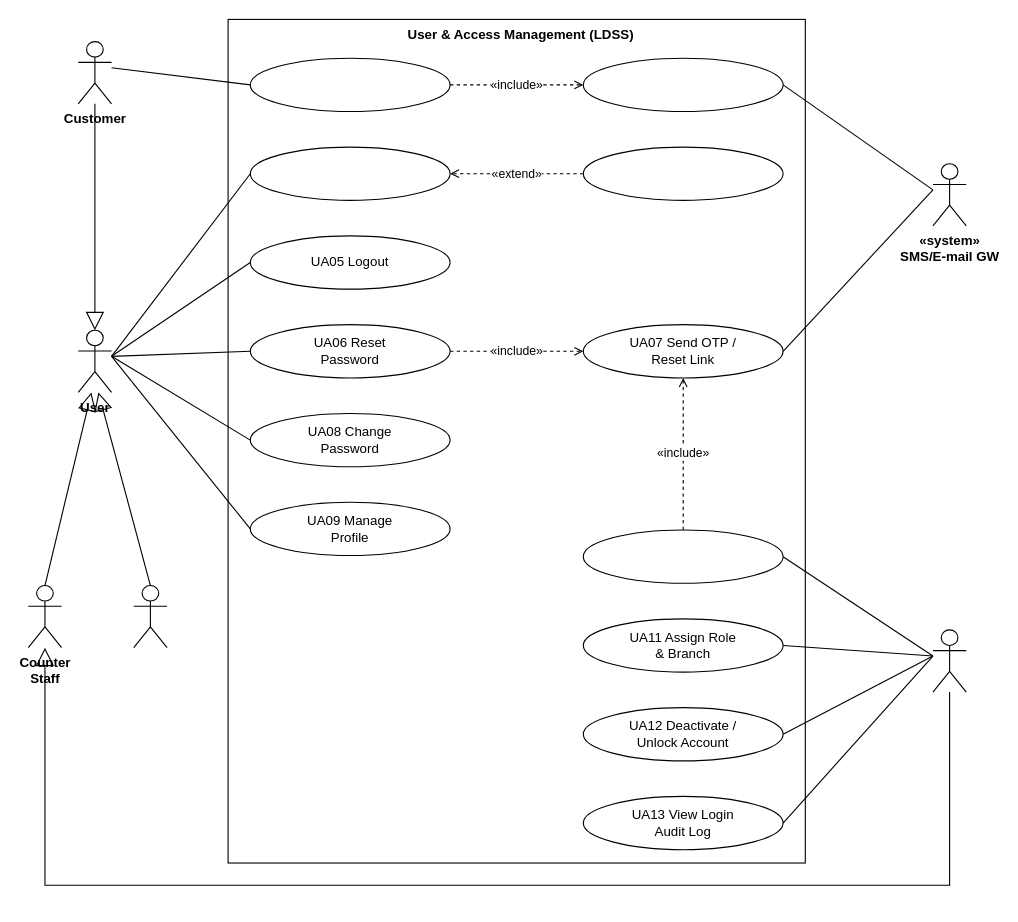
This 1018x922 diagram has some shape labels left out. Here are the shapes that lost their labels. From the top down, the centre of each, then its label:
At point (349, 84): "UA01 Register Account".
At point (682, 84): "UA02 Verify OTP".
At point (349, 173): "UA03 Login".
At point (682, 173): "UA04 Lock Account (5 failed logins)".
At point (682, 556): "UA10 Create Staff / Rider Account".
At point (150, 616): "Rider".
At point (949, 660): "Branch Manager".
